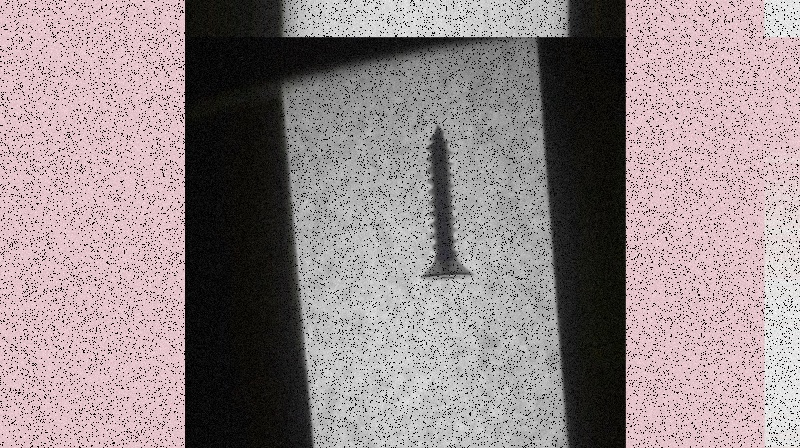S001: (420, 119, 474, 283)
